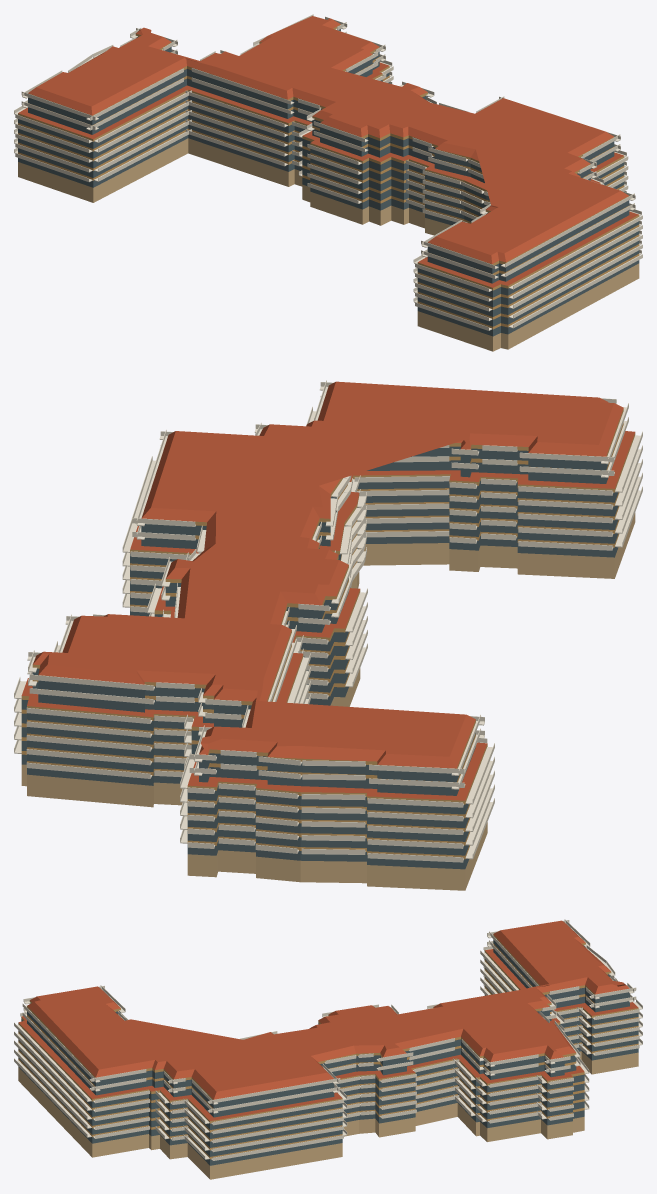
File: ritz.glb
3 views of the same model, one above another, from view 1: azimuth 30°, elevation 25°; view 2: azimuth 150°, elevation 25°; view 3: azimuth 270°, elevation 25° (orthographic). The views are drawn at different scales.
Visible parts, largest first — view 1: ritz_lod0; view 2: ritz_lod0; view 3: ritz_lod0.
Part boxes in pixels (left/top/right/bottom): ritz_lod0: left=14, top=14, right=642, bottom=351; ritz_lod0: left=14, top=380, right=642, bottom=890; ritz_lod0: left=14, top=919, right=642, bottom=1179.
Size of what is drawn, in the model's own units: 145 by 29.2 by 204.
